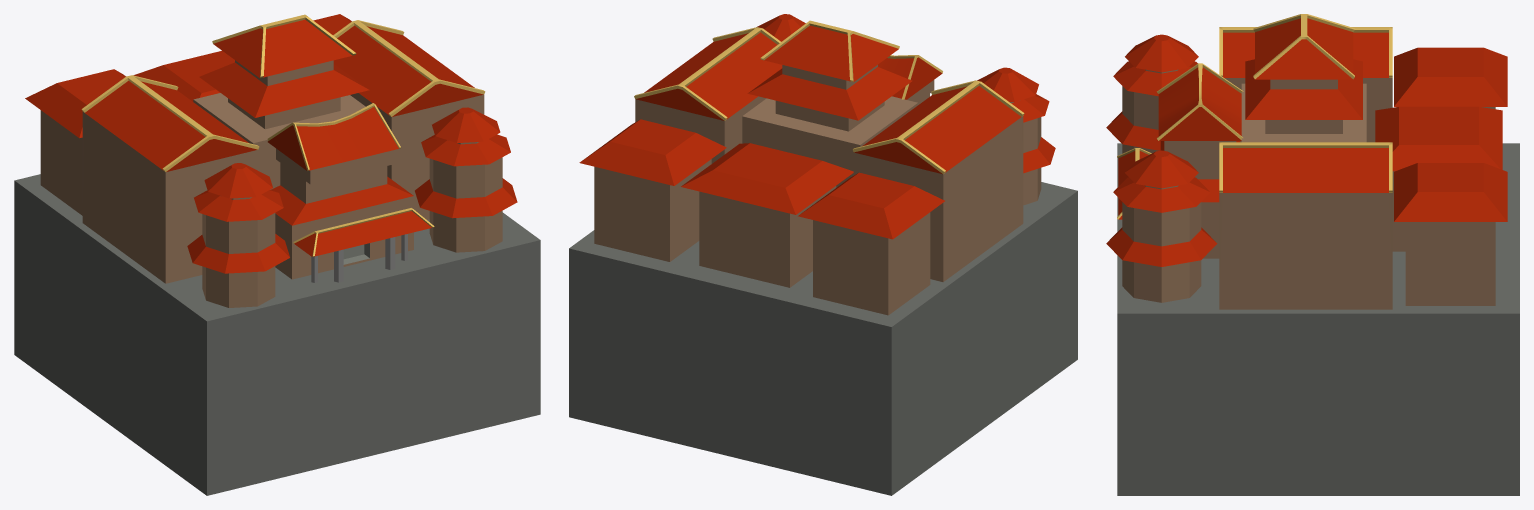
Rendered from temple_mailli.fbx.
The picture shows the model from 3 angles, left to right: view 1: azimuth 30°, elevation 25°; view 2: azimuth 150°, elevation 25°; view 3: azimuth 270°, elevation 25°; orthographic projection. The views are drawn at different scales.
Parts seen in each view (by area): view 1: temple_mailli4, polySurface14, pCylinder1, pCube24, pCube25, pCube27, pCube29, pCube26, pCylinder2; view 2: temple_mailli4, polySurface14, pCube27, pCube25, pCube26, pCylinder1, pCube24; view 3: temple_mailli4, polySurface14, pCube27, pCylinder1, pCube25, pCube24, pCube26, pCube29.
Boxes of the visible parts, x1,y1,x2,y2 form: temple_mailli4: [14, 174, 540, 495]; polySurface14: [81, 20, 485, 283]; pCylinder1: [187, 107, 517, 307]; pCube24: [267, 103, 413, 279]; pCube25: [193, 14, 369, 189]; pCube27: [25, 14, 351, 215]; pCube29: [293, 208, 434, 256]; pCube26: [133, 51, 234, 101]; pCylinder2: [334, 237, 395, 282]; temple_mailli4: [569, 182, 1077, 495]; polySurface14: [634, 27, 1024, 281]; pCube27: [579, 119, 944, 315]; pCube25: [742, 20, 917, 187]; pCube26: [681, 143, 853, 287]; pCylinder1: [756, 14, 1055, 205]; pCube24: [878, 55, 942, 104]; temple_mailli4: [1117, 143, 1519, 495]; polySurface14: [1219, 27, 1392, 309]; pCube27: [1394, 47, 1507, 305]; pCylinder1: [1106, 34, 1217, 302]; pCube25: [1241, 14, 1366, 142]; pCube24: [1157, 63, 1243, 258]; pCube26: [1375, 106, 1502, 251]; pCube29: [1117, 148, 1151, 219].
Size of the model in its own units: 10 by 10.56 by 10.28.
